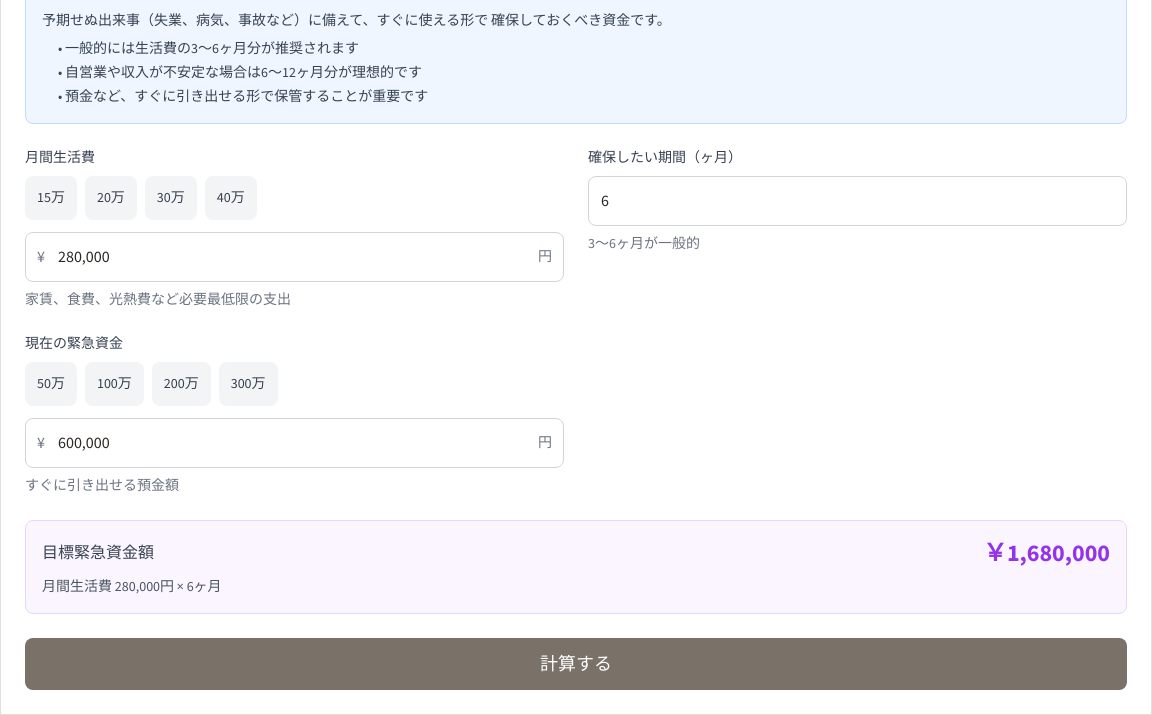
it: EmergencyFundCalculator › 結果表示 › 充足率が表示される
(page scrolled)
Click the button "計算する" at [576, 664], box [25, 638, 1127, 690]
(page scrolled)
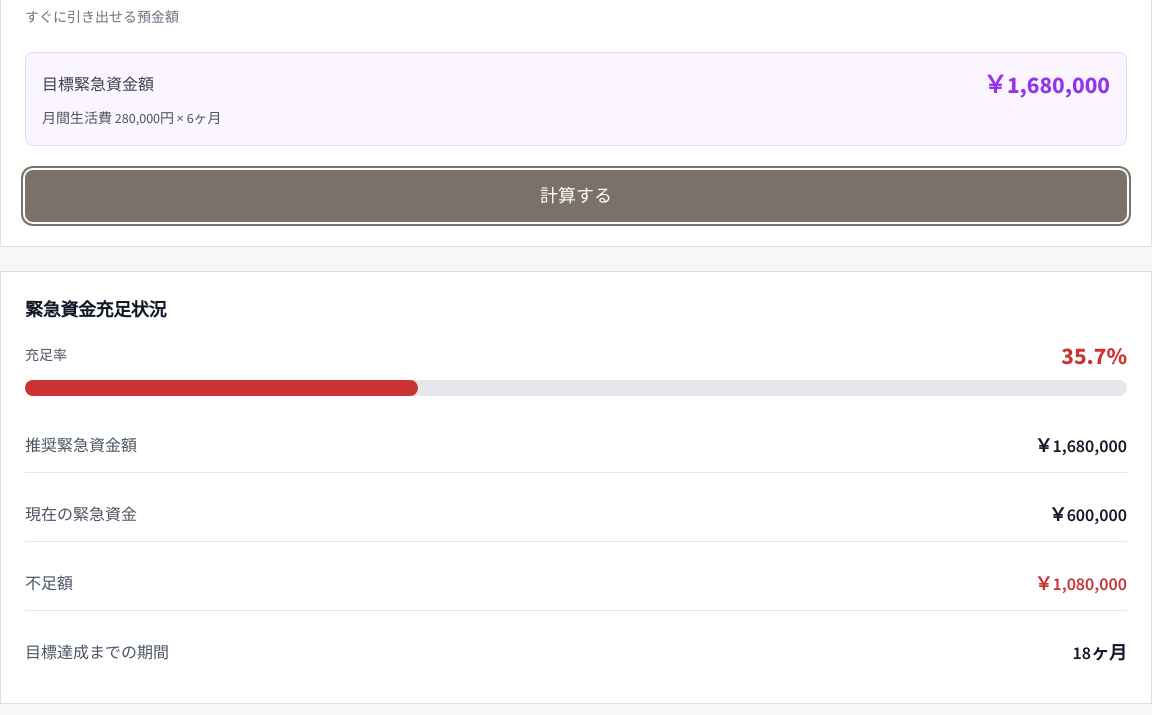
Expected: the text "35.7%" is shown, [1061, 340, 1127, 372]
